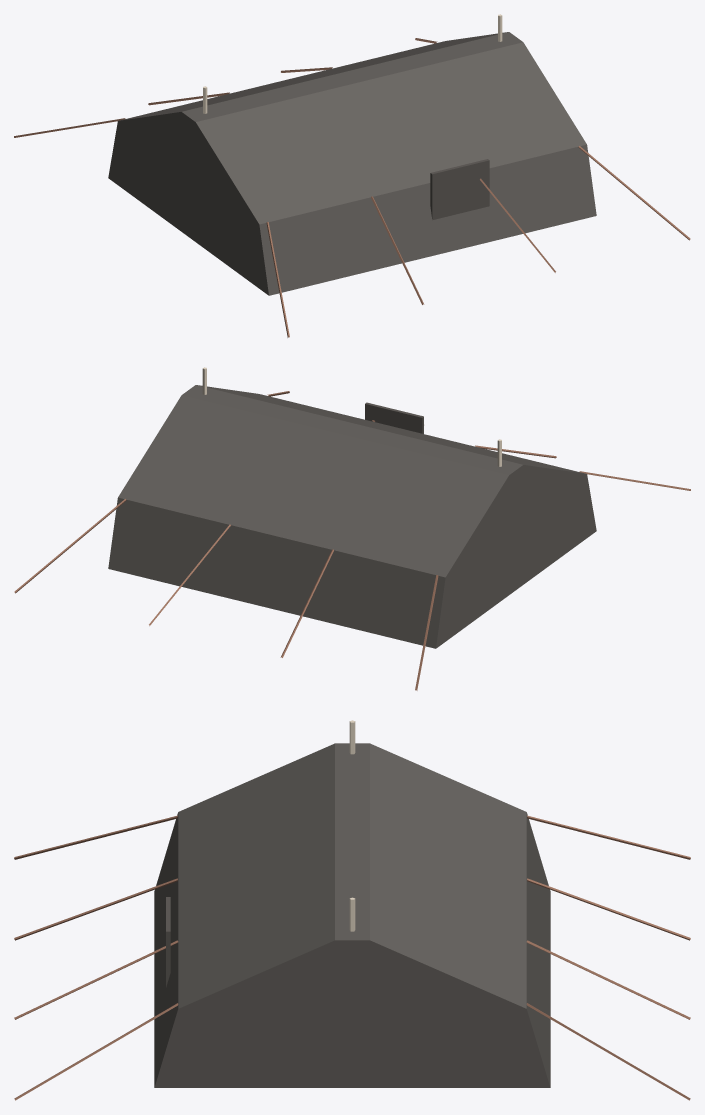
3 renders of one model, top to bottom at view 1: azimuth 30°, elevation 25°; view 2: azimuth 150°, elevation 25°; view 3: azimuth 270°, elevation 25°, orthographic. The views are drawn at different scales.
Visible parts, largest first — view 1: WB_blackTent_1.00; view 2: WB_blackTent_1.00; view 3: WB_blackTent_1.00.
Boxes of the visible parts, x1,y1,x2,y2 form: WB_blackTent_1.00: [14, 14, 690, 337]; WB_blackTent_1.00: [14, 367, 690, 690]; WB_blackTent_1.00: [14, 720, 690, 1100].
Bounding box in the file's own units: 9.84 × 3.4 × 11.62.
